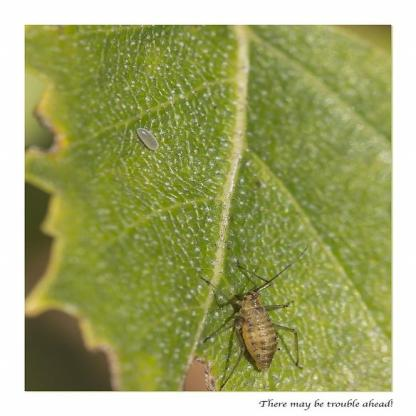aphid: (187, 257, 309, 370)
